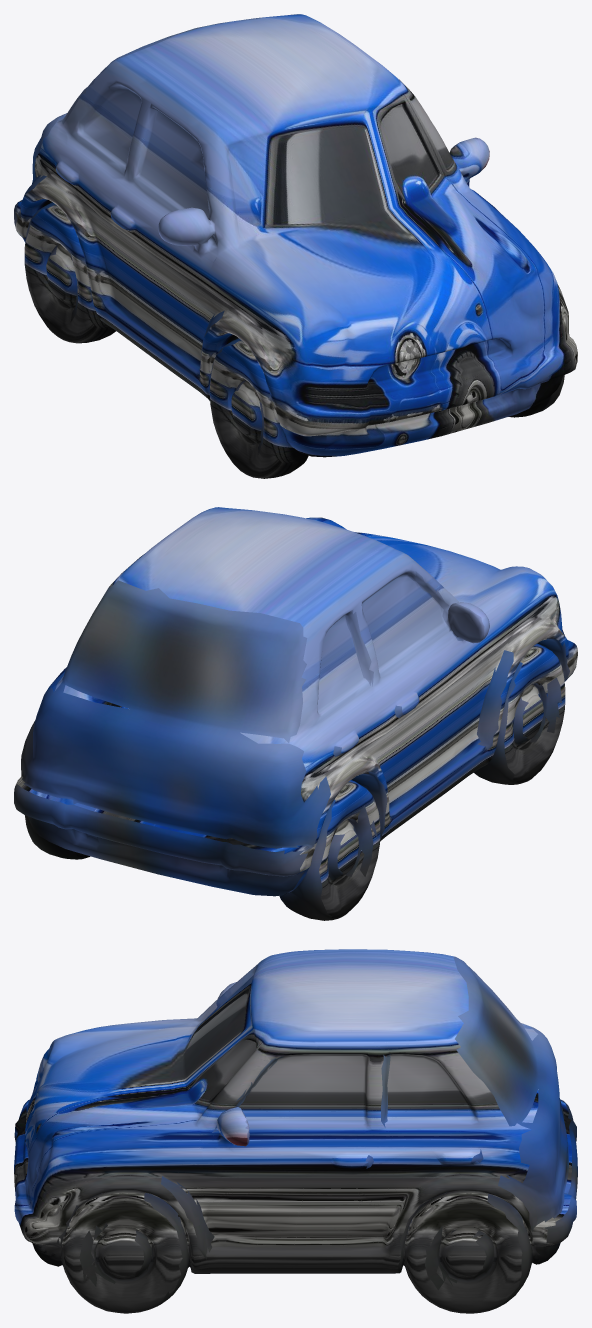
The model's file is toy_car.glb.
3 views of the same model, one above another, from view 1: azimuth 30°, elevation 25°; view 2: azimuth 150°, elevation 25°; view 3: azimuth 270°, elevation 25° (orthographic). The views are drawn at different scales.
Parts seen in each view (by area): view 1: toy_car; view 2: toy_car; view 3: toy_car.
Part boxes in pixels (bbox=[...]): toy_car: bbox=[14, 14, 577, 478]; toy_car: bbox=[14, 507, 577, 920]; toy_car: bbox=[14, 949, 577, 1313].
Bounding box in the file's own units: 22.33 × 18.89 × 36.
Materials: 1 (1 with a texture image).
